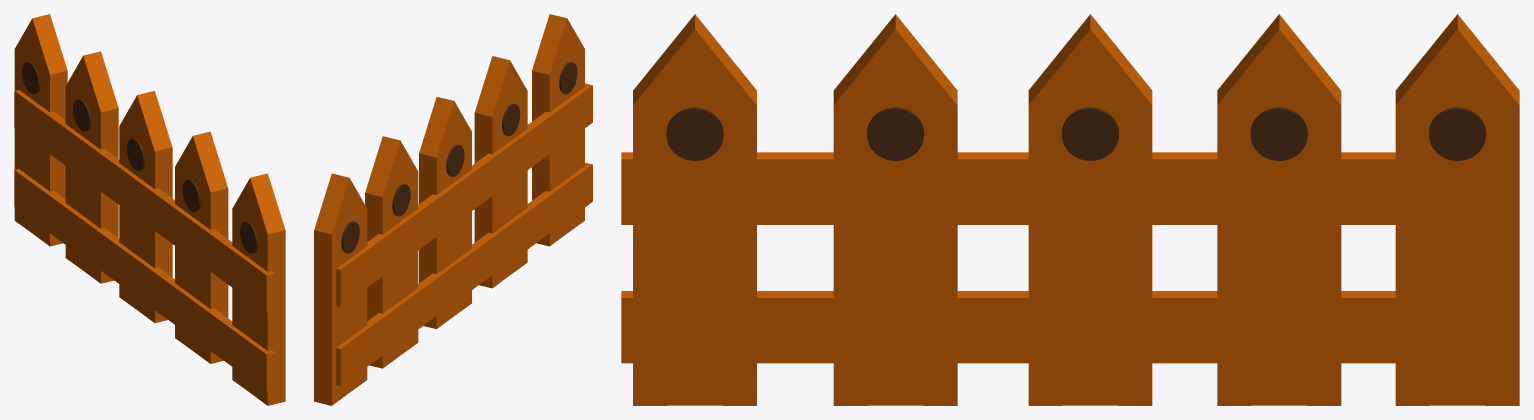
The model's file is Barrier.fbx.
3 views of the same model, side by side, from view 1: azimuth 30°, elevation 25°; view 2: azimuth 150°, elevation 25°; view 3: azimuth 270°, elevation 25° (orthographic). The views are drawn at different scales.
Visible parts, largest first — view 1: 立方体.009, 立方体.010, 立方体.004, 立方体.007, 立方体.006, 立方体.005, 立方体.008, 柱体.006, 柱体.005, 柱体.004, 柱体.007, 柱体.008; view 2: 立方体.010, 立方体.009, 立方体.008, 立方体.005, 立方体.006, 立方体.004, 立方体.007, 柱体.008, 柱体.006, 柱体.007, 柱体.004, 柱体.005; view 3: 立方体.005, 立方体.008, 立方体.007, 立方体.006, 立方体.004, 立方体.009, 立方体.010, 柱体.006, 柱体.004, 柱体.005, 柱体.008, 柱体.007.
Part boxes in pixels (left/top/right/bottom): 立方体.009: left=14, top=90, right=274, bottom=312; 立方体.010: left=14, top=169, right=274, bottom=391; 立方体.004: left=232, top=173, right=285, bottom=405; 立方体.007: left=65, top=51, right=118, bottom=283; 立方体.006: left=119, top=91, right=172, bottom=323; 立方体.005: left=175, top=131, right=228, bottom=363; 立方体.008: left=14, top=14, right=67, bottom=246; 柱体.006: left=73, top=99, right=91, bottom=131; 柱体.005: left=182, top=179, right=200, bottom=211; 柱体.004: left=240, top=221, right=258, bottom=253; 柱体.007: left=127, top=138, right=145, bottom=170; 柱体.008: left=22, top=62, right=40, bottom=94; 立方体.010: left=336, top=162, right=592, bottom=386; 立方体.009: left=336, top=83, right=592, bottom=306; 立方体.008: left=314, top=173, right=367, bottom=405; 立方体.005: left=474, top=56, right=527, bottom=288; 立方体.006: left=419, top=97, right=471, bottom=328; 立方体.004: left=532, top=14, right=584, bottom=246; 立方体.007: left=365, top=136, right=418, bottom=368; 柱体.008: left=341, top=221, right=359, bottom=253; 柱体.006: left=392, top=184, right=410, bottom=216; 柱体.007: left=446, top=144, right=464, bottom=176; 柱体.004: left=559, top=62, right=577, bottom=94; 柱体.005: left=502, top=104, right=520, bottom=135; 立方体.005: left=833, top=14, right=957, bottom=405; 立方体.008: left=1395, top=14, right=1519, bottom=405; 立方体.007: left=1217, top=14, right=1341, bottom=405; 立方体.006: left=1028, top=14, right=1152, bottom=405; 立方体.004: left=633, top=14, right=756, bottom=405; 立方体.009: left=621, top=152, right=1395, bottom=224; 立方体.010: left=621, top=291, right=1395, bottom=363; 柱体.006: left=1250, top=107, right=1307, bottom=160; 柱体.004: left=666, top=107, right=723, bottom=160; 柱体.005: left=867, top=107, right=924, bottom=160; 柱体.008: left=1429, top=107, right=1486, bottom=160; 柱体.007: left=1061, top=107, right=1118, bottom=160.
Size of the model in its own units: 11.18 by 95.12 by 205.
